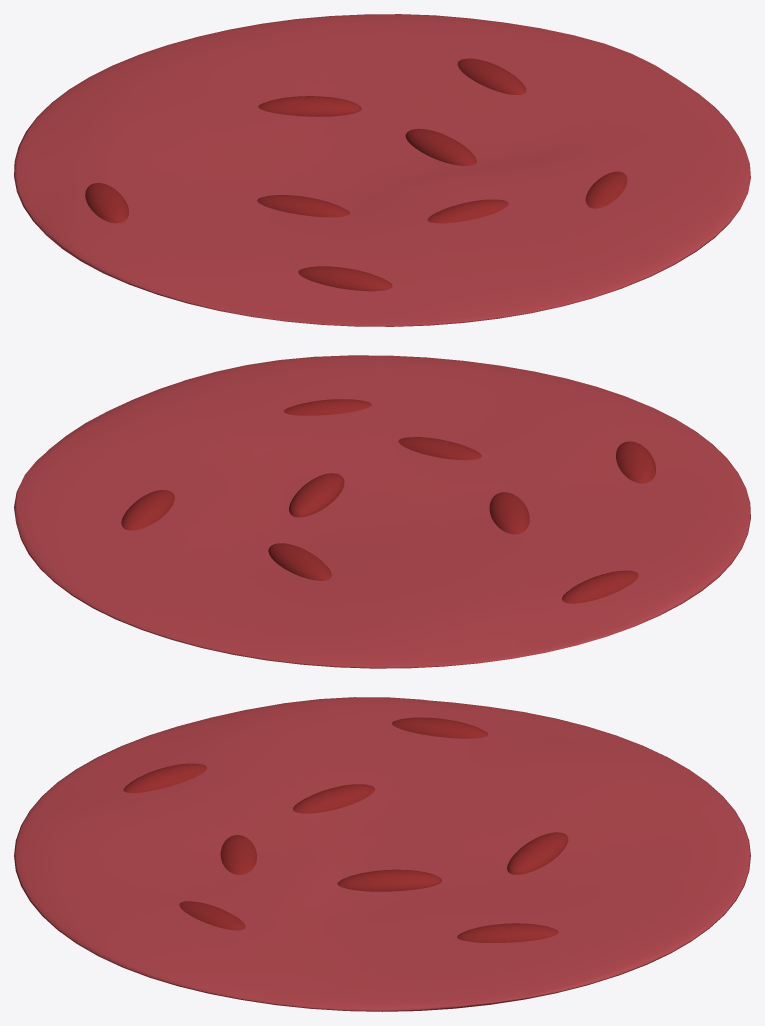
Rendered from cookedpulut3.fbx.
The picture shows the model from 3 angles, top to bottom: view 1: azimuth 30°, elevation 25°; view 2: azimuth 150°, elevation 25°; view 3: azimuth 270°, elevation 25°; orthographic projection.
Visible parts, largest first — view 1: Sphere.066, Sphere.072; view 2: Sphere.066, Sphere.072; view 3: Sphere.066, Sphere.072.
Part boxes in pixels (x1,y1,x2,y2): Sphere.066: (14,14,750,326); Sphere.072: (85,58,627,291); Sphere.066: (14,355,750,668); Sphere.072: (121,399,655,603); Sphere.066: (14,697,750,1011); Sphere.072: (123,717,568,942).
Bounding box in the file's own units: 193 × 7.19 × 193.
